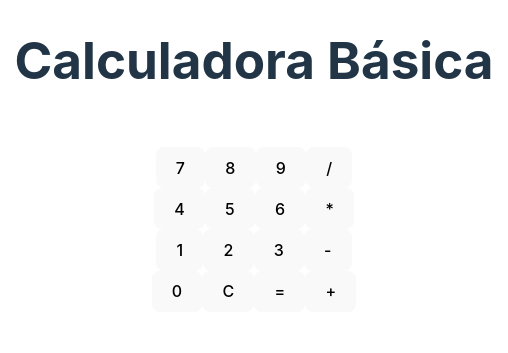
it: Calculadora Básica › realiza una multiplicación correctamente
The width and height of the screenshot is (508, 353).
Click the button "2".
click(228, 250)  # box [203,230,254,271]
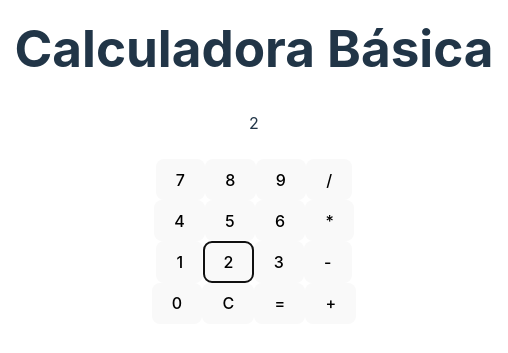
Click the button "*".
click(330, 221)  # box [305,200,354,242]
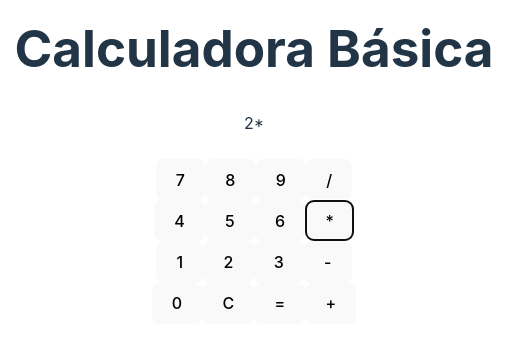
Click the button "3".
click(279, 262)  # box [254,242,304,283]
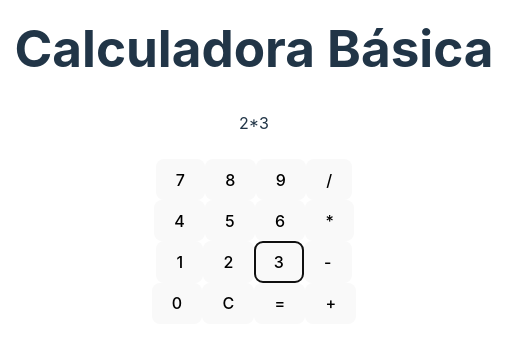
Click the button "=".
click(280, 303)  # box [254,283,305,324]
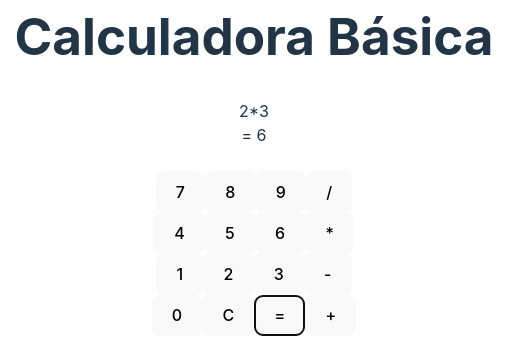
Now the text "= 6" is shown, box [242,125,266,145]
